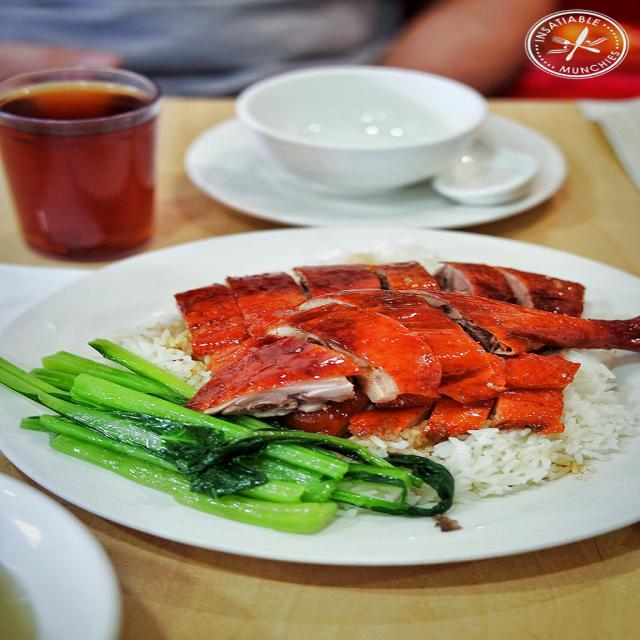Tea: (2, 85, 154, 262)
